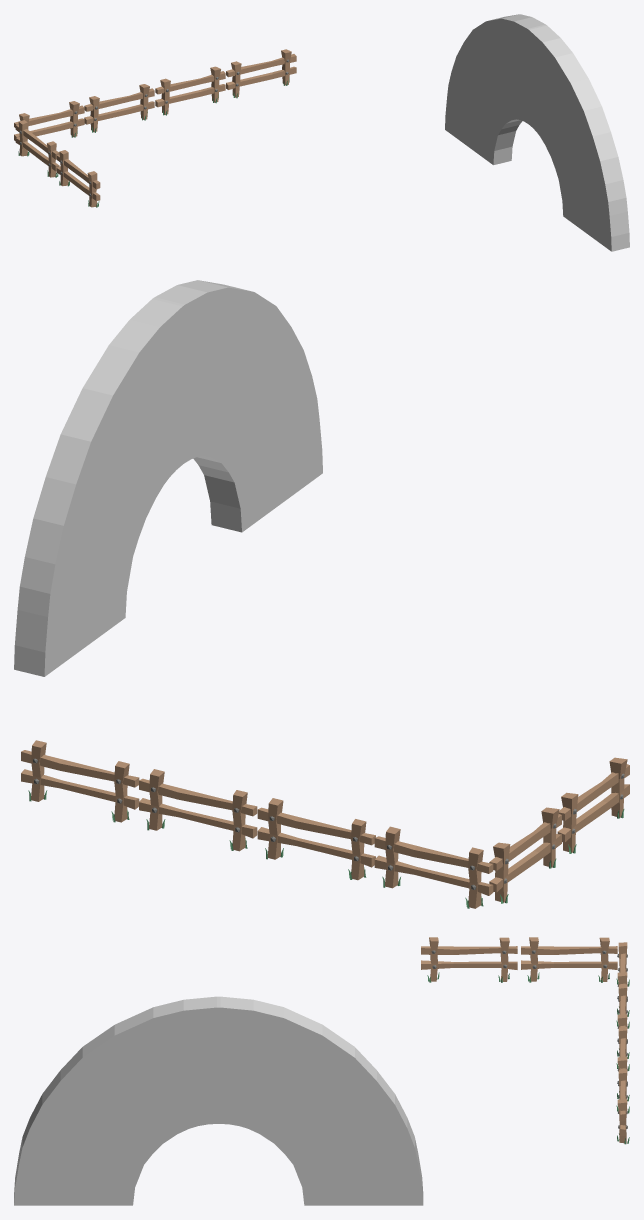
File: aframe.fbx
3 views of the same model, one above another, from view 1: azimuth 30°, elevation 25°; view 2: azimuth 150°, elevation 25°; view 3: azimuth 270°, elevation 25° (orthographic). The views are drawn at different scales.
Parts seen in each view (by area): view 1: Cube.003, Cube.007, Cube.005, Cube.006, Cube.004, Cube.002, Cube.001; view 2: Cube.003, Cube.004, Cube.007, Cube.006, Cube.005, Cube.001, Cube.002; view 3: Cube.003, Cube.001, Cube.002, Cube.007, Cube.004, Cube.005, Cube.006.
Part boxes in pixels (x1,y1,x2,y2): Cube.003: (445,14,629,251); Cube.007: (226,49,296,98); Cube.005: (84,84,154,132); Cube.006: (155,66,225,115); Cube.004: (14,101,84,141); Cube.002: (56,150,100,207); Cube.001: (15,120,59,177); Cube.003: (14,280,322,676); Cube.004: (374,826,493,908); Cube.007: (21,740,139,822); Cube.006: (139,769,257,851); Cube.005: (257,798,375,880); Cube.001: (489,807,561,903); Cube.002: (557,757,629,853); Cube.003: (14,996,423,1205); Cube.001: (521,937,617,982); Cube.002: (421,937,517,982); Cube.007: (616,1069,629,1144); Cube.004: (616,942,629,1016); Cube.005: (616,984,629,1058); Cube.006: (616,1027,629,1101).
Size of what is drawn, in the model's own units: 4051 by 1687 by 4754.
